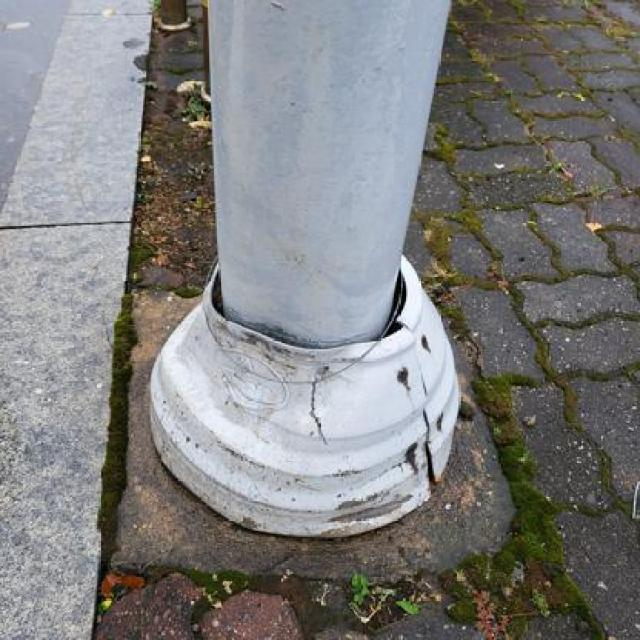pole: (142, 0, 492, 549)
